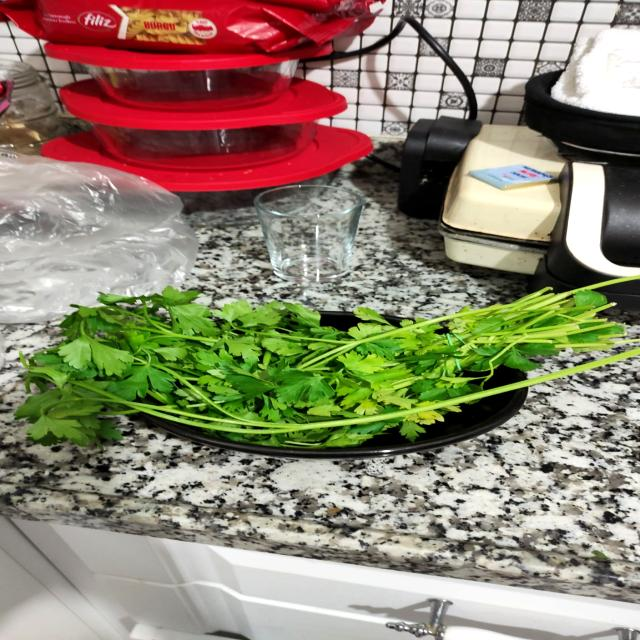parsley: (18, 274, 640, 463)
